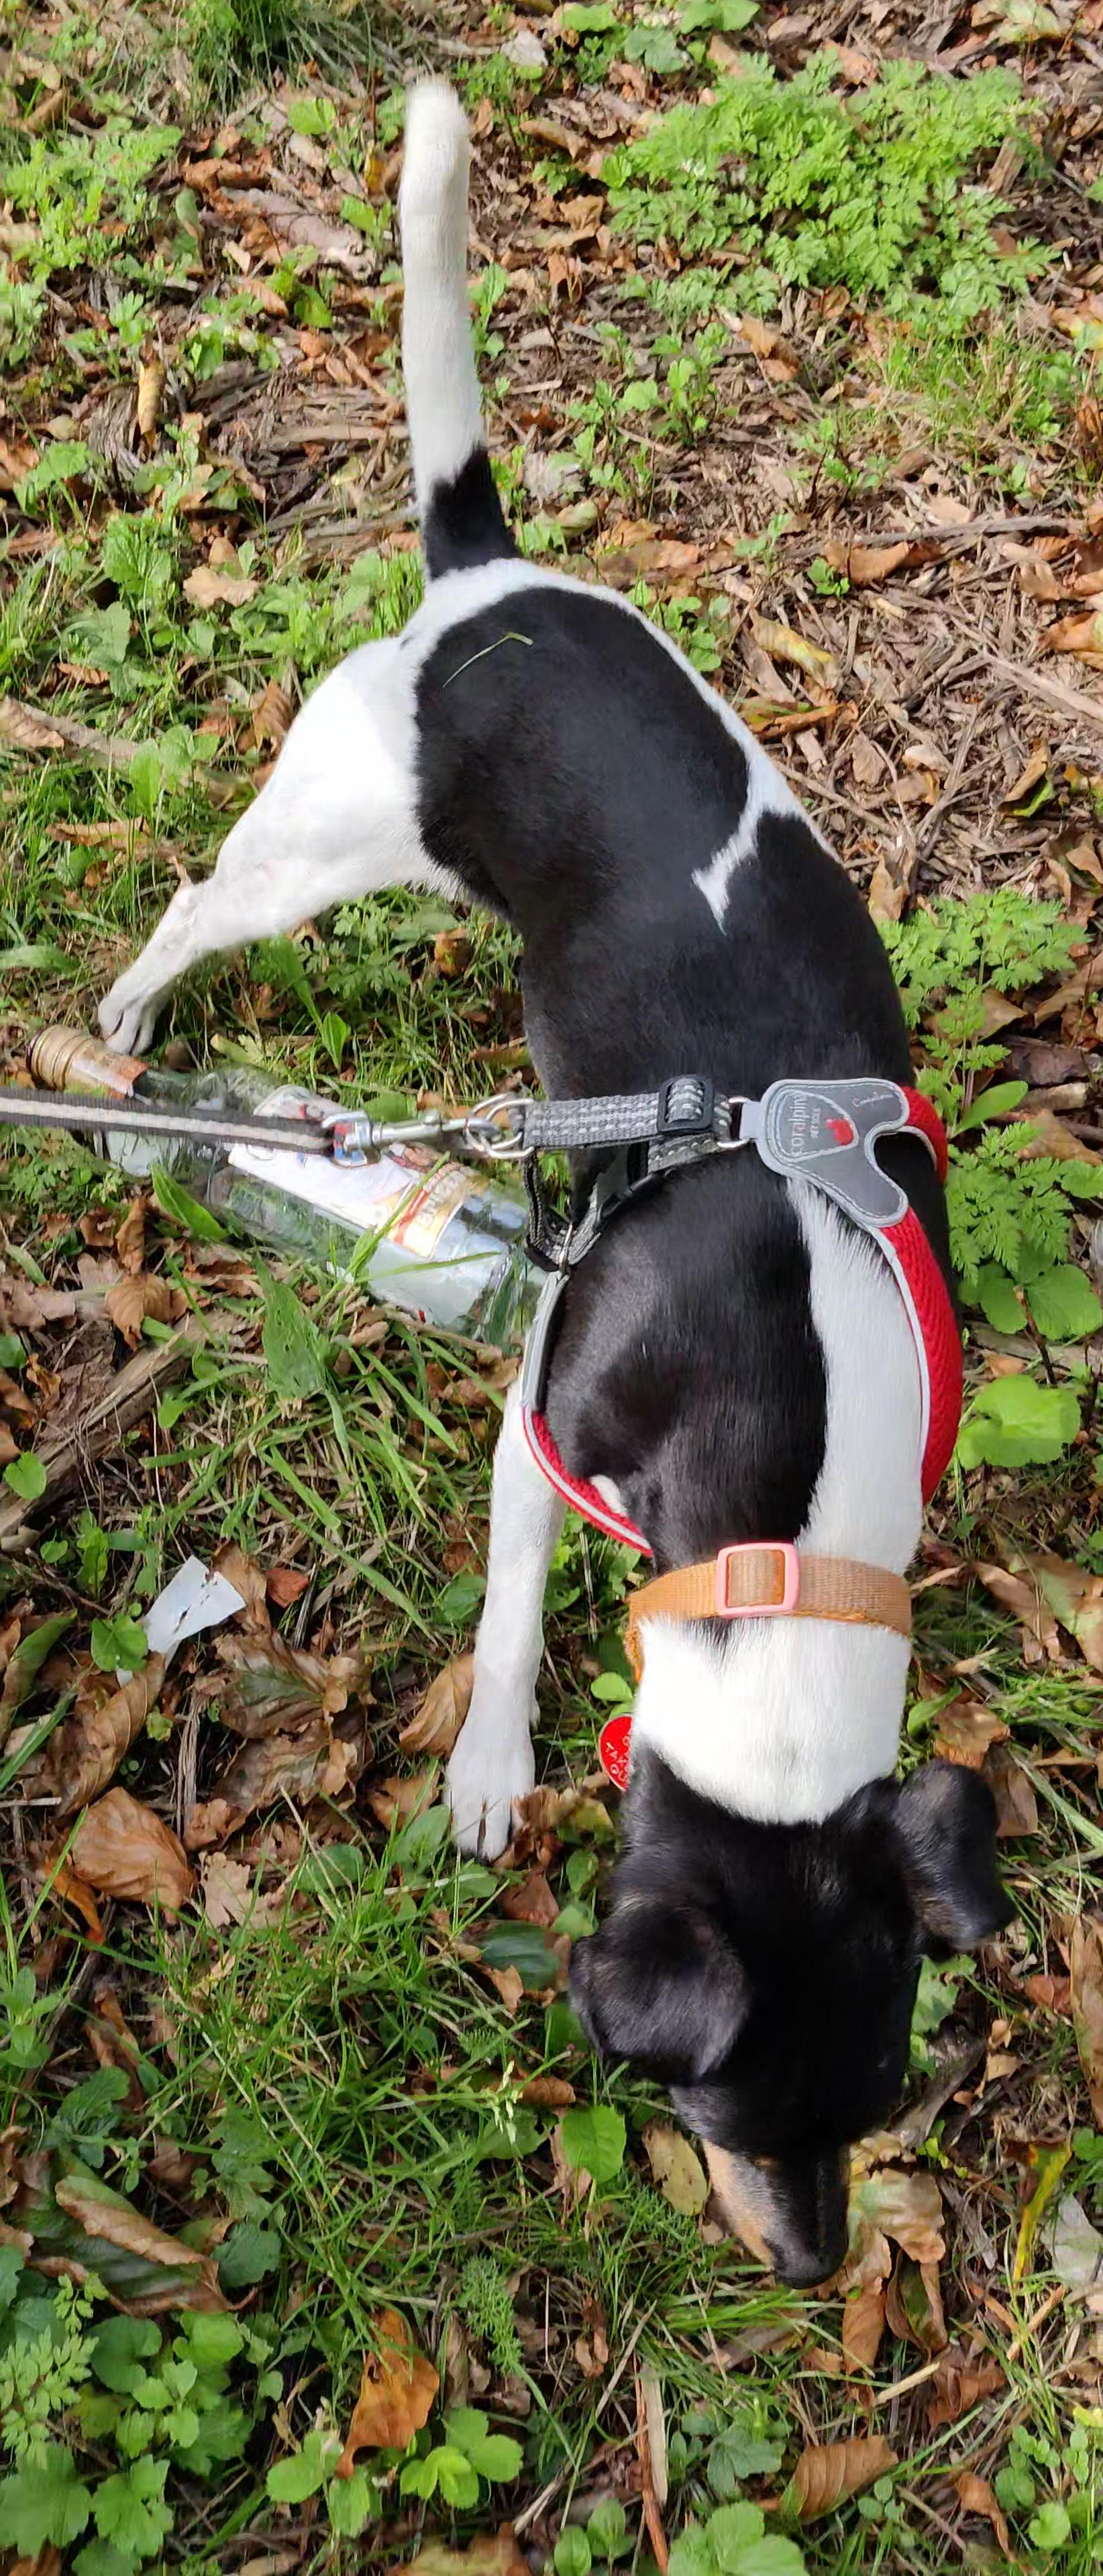Dog: (54, 48, 1034, 2320)
